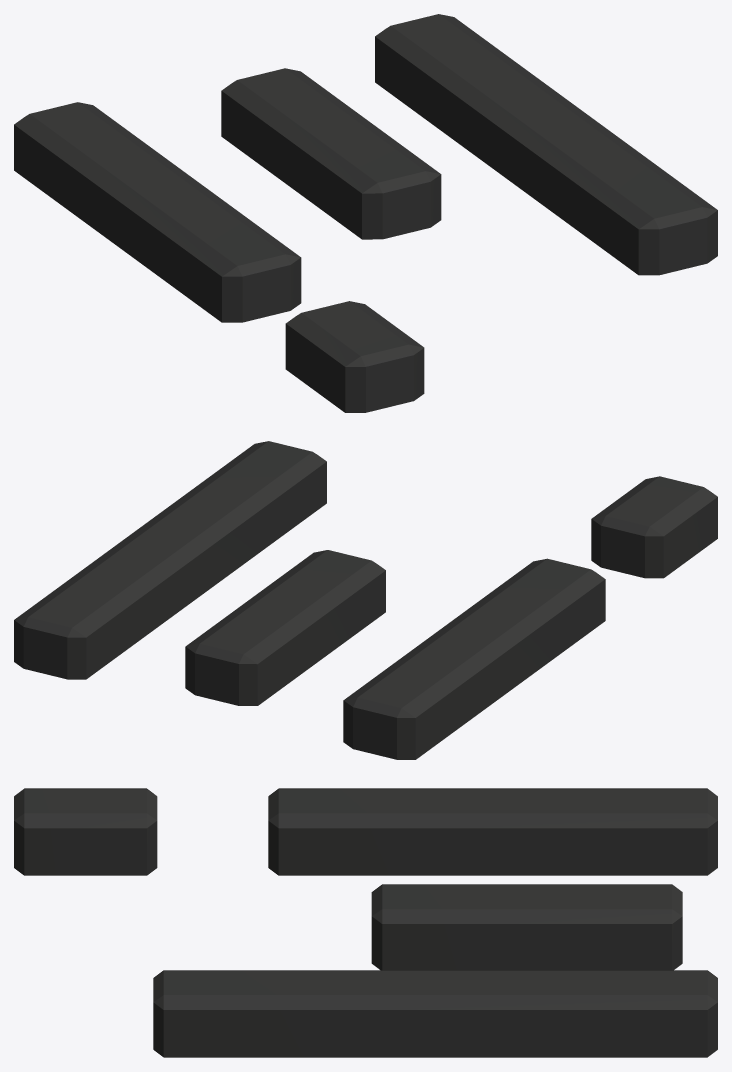
Rendered from Signs_2_2.obj.
3 views of the same model, one above another, from view 1: azimuth 30°, elevation 25°; view 2: azimuth 150°, elevation 25°; view 3: azimuth 270°, elevation 25° (orthographic). The views are drawn at different scales.
Parts seen in each view (by area): view 1: Signs_2_2; view 2: Signs_2_2; view 3: Signs_2_2.
Boxes of the visible parts, box(x1,y1,x2,y2) form: Signs_2_2: box(14, 14, 717, 412); Signs_2_2: box(14, 441, 717, 759); Signs_2_2: box(14, 788, 717, 1057).
Bounding box in the file's own units: 0.2888 × 0.0331 × 0.3877.
